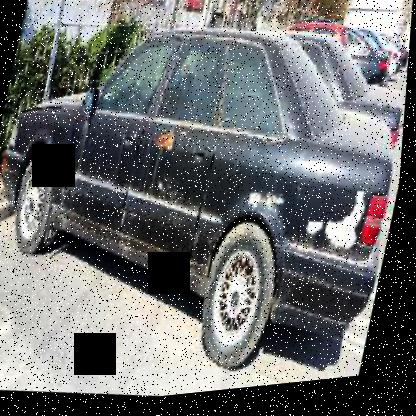not_emergency: (0, 0, 414, 407)
